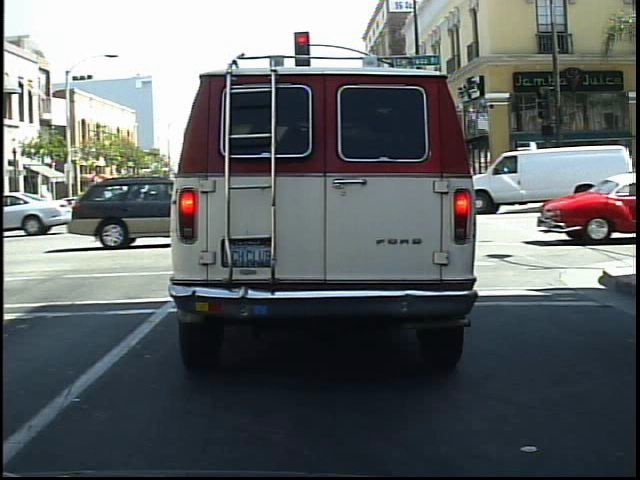person: (581, 143, 605, 210), (538, 152, 562, 210), (514, 155, 536, 207)
